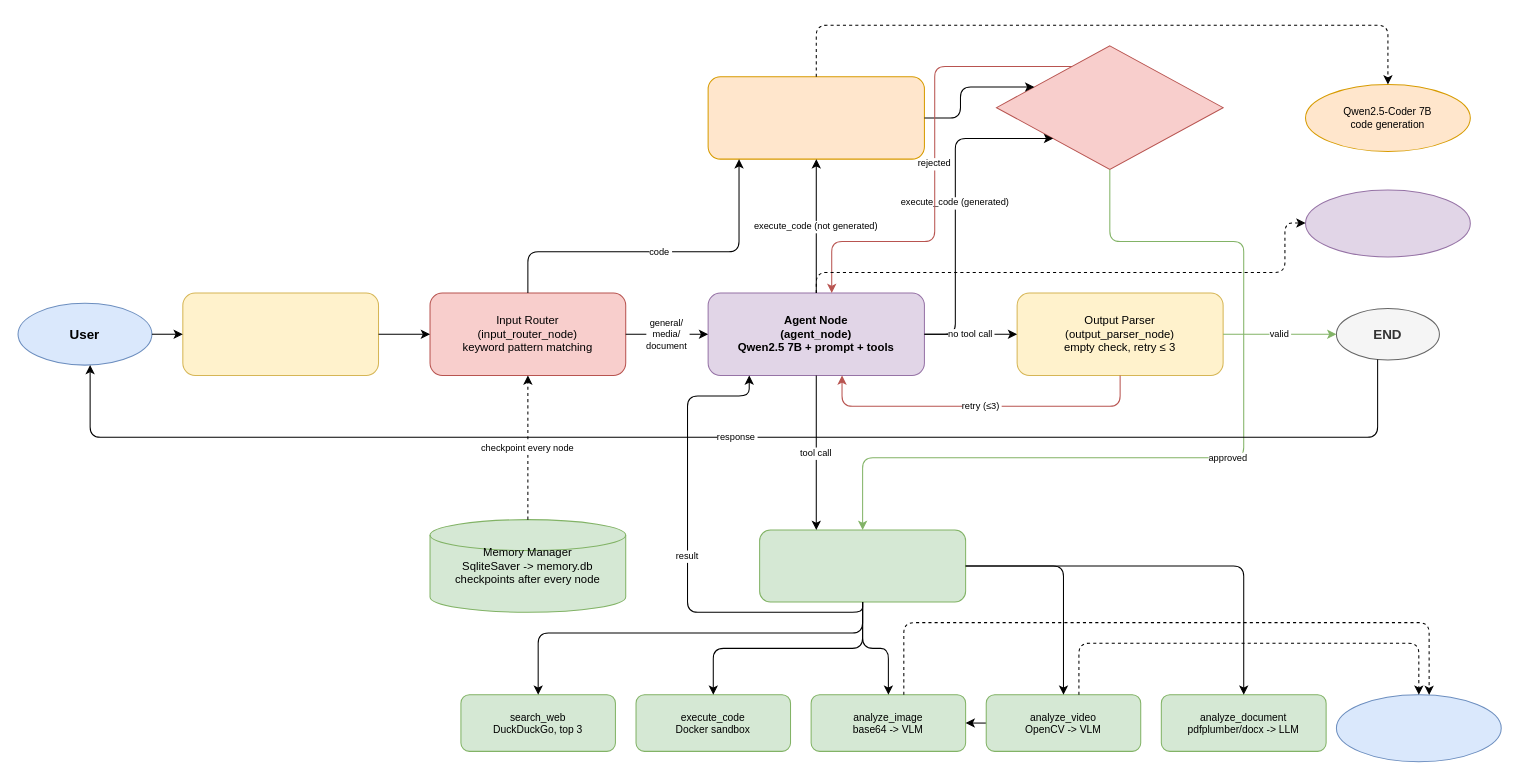
Some shapes in this 1519 by 780 pixel diagram are drawn without their labels. Here are the shapes that lost their labels. From the top down, the centre of each, then its label:
the point at 815,117: Code Generation Node (code_generation_node) Qwen2.5-Coder 7B
the point at 1109,107: Human Approval Node (human_approval_node) interrupt() -> approve / reject
the point at 1387,223: Qwen2.5 7B reasoning + tool calling
the point at 280,333: Session Manager (main.py) new UUID / load .last_session
the point at 862,565: Tool Manager (ToolNode)
the point at 1418,728: Qwen2.5-VL 7B vision (image + video)
